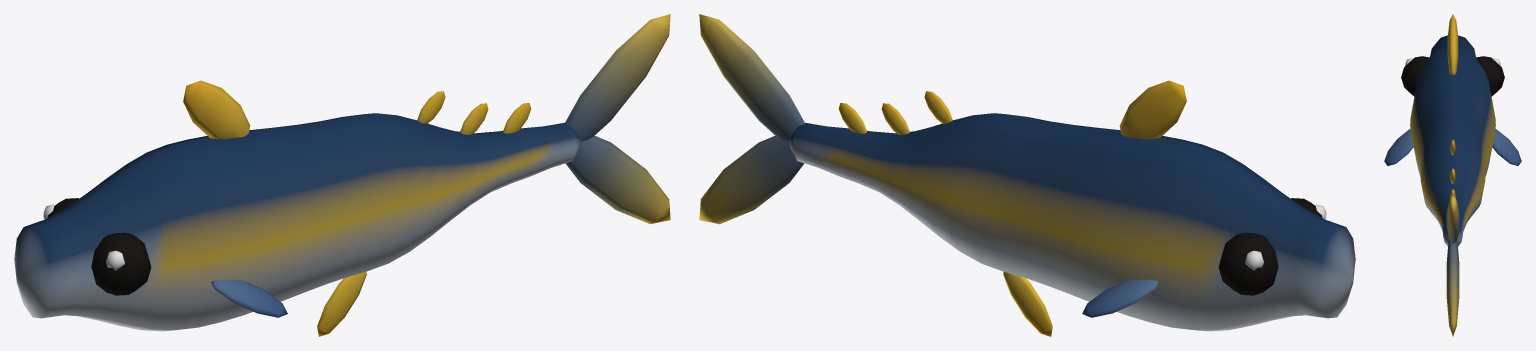
File: Tuna.glb
3 views of the same model, side by side, from view 1: azimuth 30°, elevation 25°; view 2: azimuth 150°, elevation 25°; view 3: azimuth 270°, elevation 25° (orthographic). The views are drawn at different scales.
Visible parts, largest first — view 1: Tuna; view 2: Tuna; view 3: Tuna.
Part boxes in pixels (bbox=[...]): Tuna: bbox=[14, 14, 670, 336]; Tuna: bbox=[699, 14, 1355, 336]; Tuna: bbox=[1384, 14, 1521, 336].
Size of the model in its own units: 1.42 by 0.592 by 0.3921.
